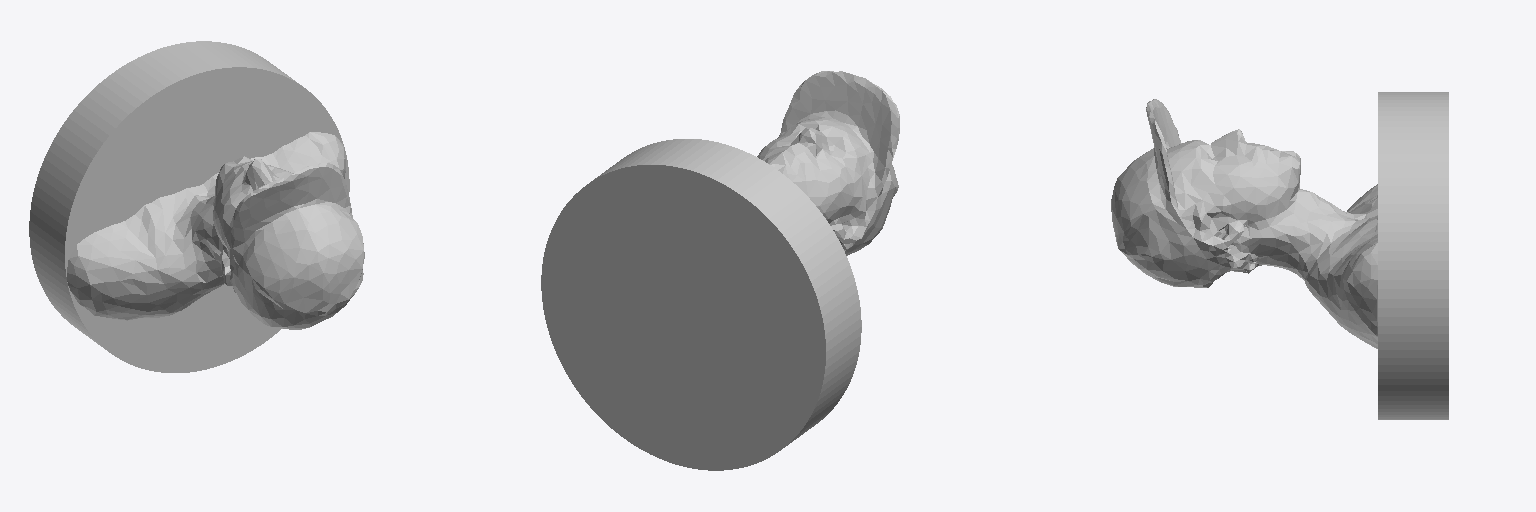
File: siegi.obj
3 renders of one model, left to right at view 1: azimuth 30°, elevation 25°; view 2: azimuth 150°, elevation 25°; view 3: azimuth 270°, elevation 25°, orthographic.
Visible parts, largest first — view 1: <STL_BINARY>; view 2: <STL_BINARY>; view 3: <STL_BINARY>.
Part boxes in pixels (left/top/right/bottom): <STL_BINARY>: left=29, top=41, right=364, bottom=372; <STL_BINARY>: left=541, top=71, right=899, bottom=470; <STL_BINARY>: left=1111, top=92, right=1448, bottom=419.
Size of the model in its own units: 0.463 by 0.463 by 0.4745.